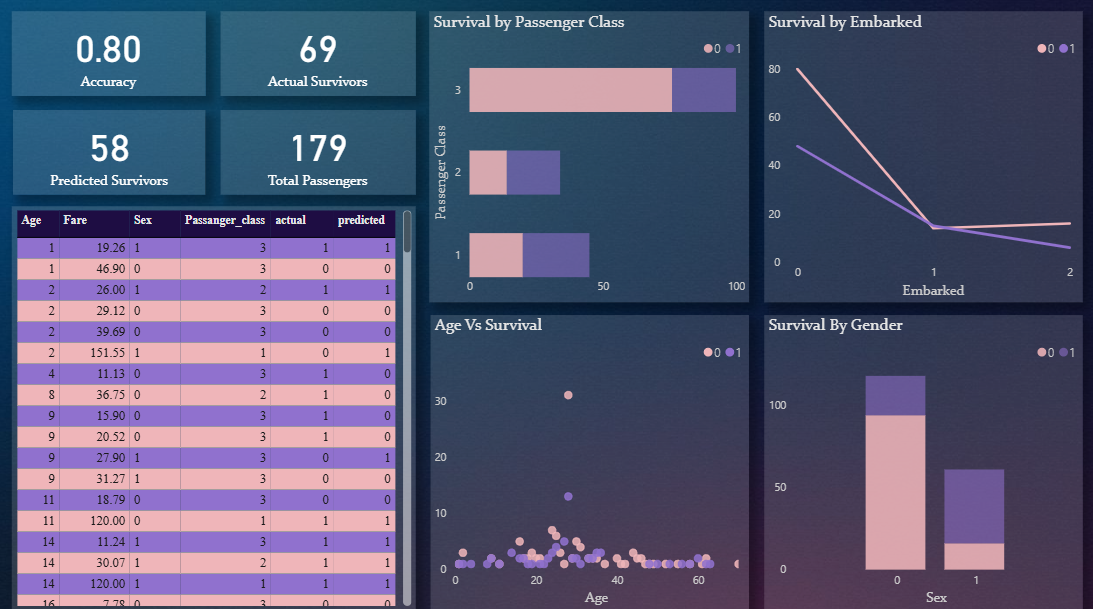

Layout of this report page (visuals, bound fields, positions):
{"tool":"powerbi","page":{"name":"Page 1","canvas":[1280,720],"ordinal":0},"visuals":[{"type":"card","fields":{"Values":["Measure.Accuracy"]},"box":[38.6,12.9,221.4,97.1],"z":0},{"type":"card","fields":{"Values":["Measure.Total_Passengers"]},"box":[277.1,125.7,222.9,97.1],"z":1000},{"type":"card","fields":{"Values":["Measure.Actual_Survived"]},"box":[277.1,12.9,222.9,97.1],"z":2000},{"type":"card","fields":{"Values":["Measure.Predicted_Survived"]},"box":[40,125.7,220,97.1],"z":3000},{"type":"lineStackedColumnComboChart","title":"Survival By Gender","fields":{"Category":["titanic_test_predictions.Sex"],"Y":["titanic_test_predictions.PASSENGERS"],"Series":["titanic_test_predictions.actual"]},"box":[898.6,360,364.3,337.1],"z":4000},{"type":"barChart","title":"Survival by Passenger Class","fields":{"Category":["titanic_test_predictions.Passanger_class"],"Y":["titanic_test_predictions.PASSENGERS"],"Series":["titanic_test_predictions.actual"]},"box":[515.7,12.9,365.7,332.9],"z":5000},{"type":"scatterChart","title":"Age Vs Survival","fields":{"X":["titanic_test_predictions.Age"],"Y":["titanic_test_predictions.PASSENGERS"],"Series":["titanic_test_predictions.actual"]},"box":[517.1,360,364.3,337.1],"z":6000},{"type":"lineChart","title":"Survival by Embarked","fields":{"Category":["titanic_test_predictions.Embarked"],"Y":["titanic_test_predictions.PASSENGERS"],"Series":["titanic_test_predictions.actual"]},"box":[898.6,12.9,364.3,332.9],"z":7000},{"type":"tableEx","fields":{"Values":["titanic_test_predictions.Age","titanic_test_predictions.Fare","titanic_test_predictions.Sex","titanic_test_predictions.Passanger_class","titanic_test_predictions.actual","titanic_test_predictions.predicted"]},"box":[38.6,235.7,461.4,461.4],"z":7001}]}

Visuals, with their boxes in screenshot pixels (x1, y1, x2, y2), scaled from the page's 1280x720 canvas onto the 1093x609 screenshot:
card - Measure.Accuracy: Rect(33, 11, 222, 93)
card - Measure.Total_Passengers: Rect(237, 106, 427, 188)
card - Measure.Actual_Survived: Rect(237, 11, 427, 93)
card - Measure.Predicted_Survived: Rect(34, 106, 222, 188)
"Survival By Gender" lineStackedColumnComboChart: Rect(767, 304, 1078, 590)
"Survival by Passenger Class" barChart: Rect(440, 11, 753, 292)
"Age Vs Survival" scatterChart: Rect(442, 304, 753, 590)
"Survival by Embarked" lineChart: Rect(767, 11, 1078, 292)
tableEx - titanic_test_predictions.Age x titanic_test_predictions.Fare: Rect(33, 199, 427, 590)
